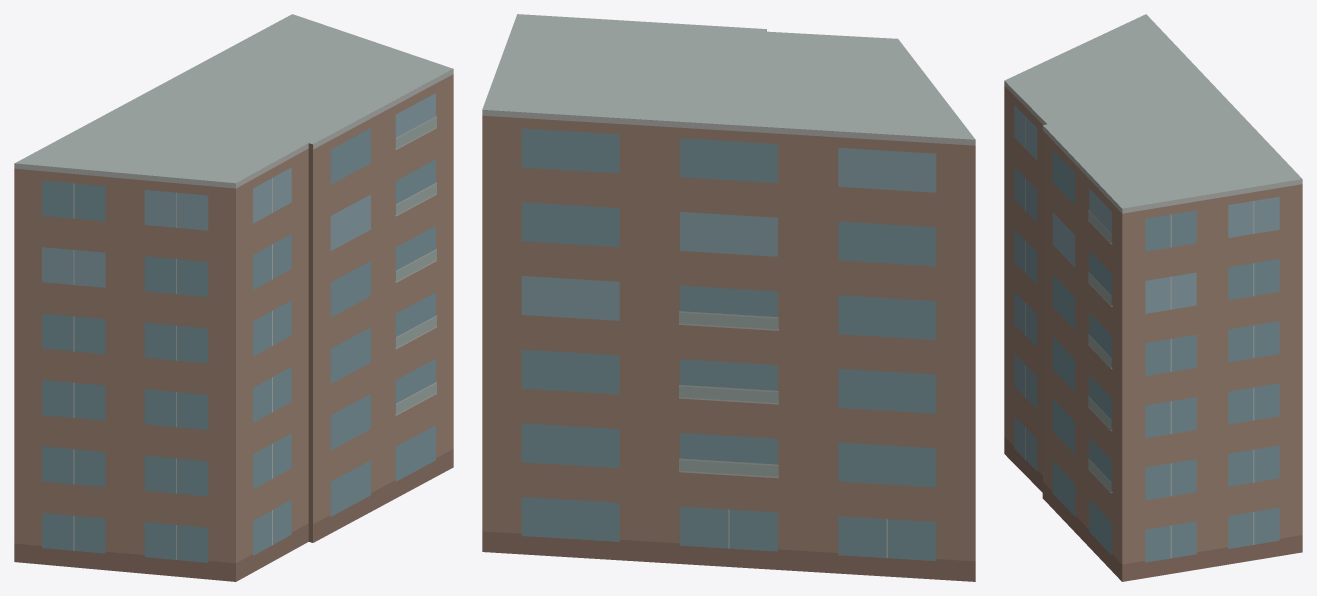
The model's file is survey-upis-32745976.glb.
The picture shows the model from 3 angles, left to right: view 1: azimuth 30°, elevation 25°; view 2: azimuth 150°, elevation 25°; view 3: azimuth 270°, elevation 25°; orthographic projection. The views are drawn at different scales.
Parts seen in each view (by area): view 1: survey-upis-32745976.tmp; view 2: survey-upis-32745976.tmp; view 3: survey-upis-32745976.tmp.
Part boxes in pixels (<box>): survey-upis-32745976.tmp: <box>14,14,453,581</box>; survey-upis-32745976.tmp: <box>482,14,975,581</box>; survey-upis-32745976.tmp: <box>1004,14,1302,581</box>.
Bounding box in the file's own units: 20.49 × 18.3 × 13.27.
